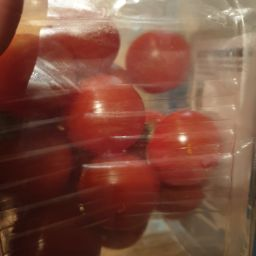Pea tomatoes: (20, 22, 242, 245), (114, 94, 223, 188), (127, 112, 225, 190), (84, 151, 159, 242), (112, 27, 202, 99), (72, 77, 149, 150), (13, 130, 83, 208)
